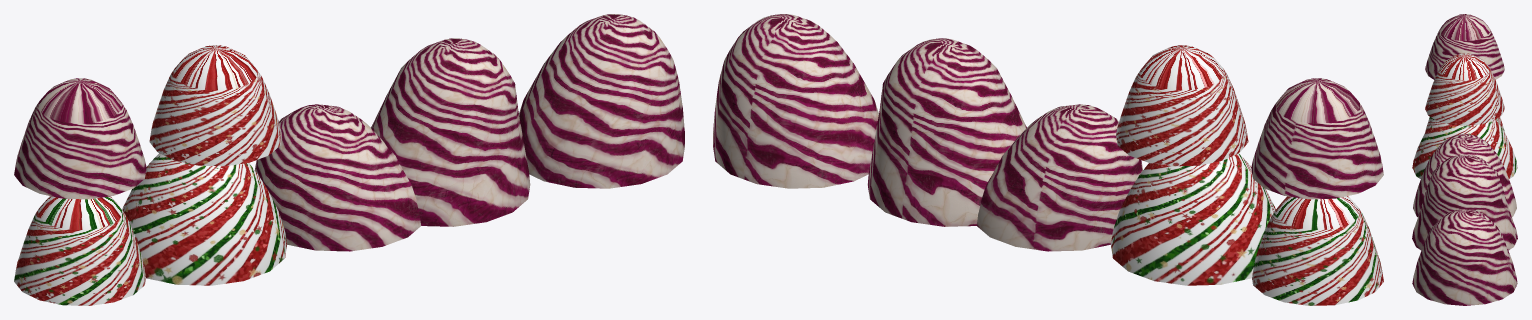
File: candy mountain.fbx
3 views of the same model, side by side, from view 1: azimuth 30°, elevation 25°; view 2: azimuth 150°, elevation 25°; view 3: azimuth 270°, elevation 25° (orthographic). The views are drawn at different scales.
Visible parts, largest first — view 1: Cylinder.017, Cylinder.016, Cylinder.015, Cylinder.014, Cylinder.018, Cylinder.019, Cylinder.013; view 2: Cylinder.017, Cylinder.016, Cylinder.015, Cylinder.014, Cylinder.018, Cylinder.019, Cylinder.013; view 3: Cylinder.017, Cylinder.016, Cylinder.019, Cylinder.018, Cylinder.014, Cylinder.015.
Boxes of the visible parts, x1,y1,x2,y2 form: Cylinder.017: (519,14,684,188); Cylinder.016: (371,38,530,226); Cylinder.015: (255,104,421,251); Cylinder.014: (122,153,286,285); Cylinder.018: (14,78,146,199); Cylinder.019: (149,45,281,166); Cylinder.013: (14,196,145,305); Cylinder.017: (713,14,878,188); Cylinder.016: (867,38,1026,226); Cylinder.015: (976,104,1142,251); Cylinder.014: (1111,153,1275,285); Cylinder.018: (1251,78,1383,199); Cylinder.019: (1116,45,1248,166); Cylinder.013: (1252,196,1383,305); Cylinder.017: (1412,209,1517,305); Cylinder.016: (1412,154,1517,250); Cylinder.019: (1425,53,1504,125); Cylinder.018: (1425,14,1504,79); Cylinder.014: (1412,119,1517,178); Cylinder.015: (1413,134,1516,217).
Bounding box in the file's own units: 32642 × 9374 × 7698.
Materials: 3 (3 with a texture image).
